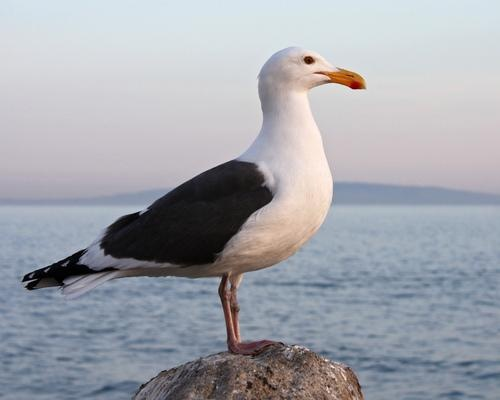bird: (23, 46, 364, 356)
